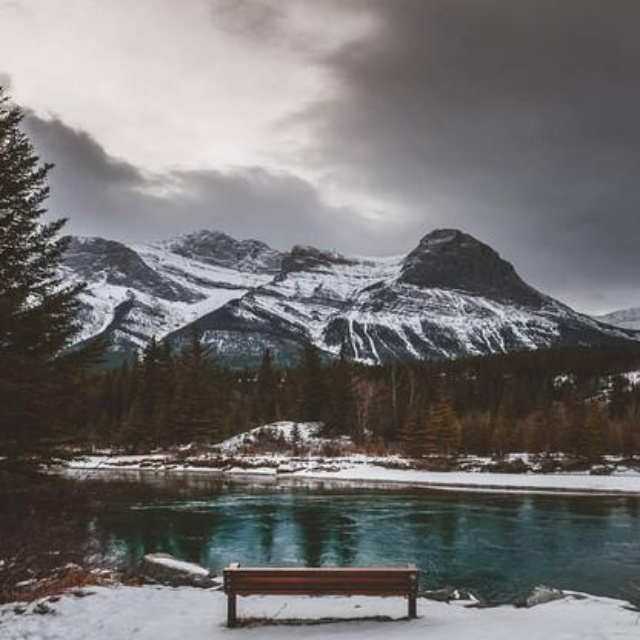obstacle: (206, 542, 437, 623)
